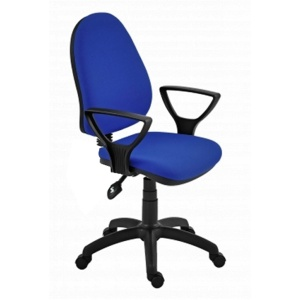chair: (69, 13, 227, 289)
